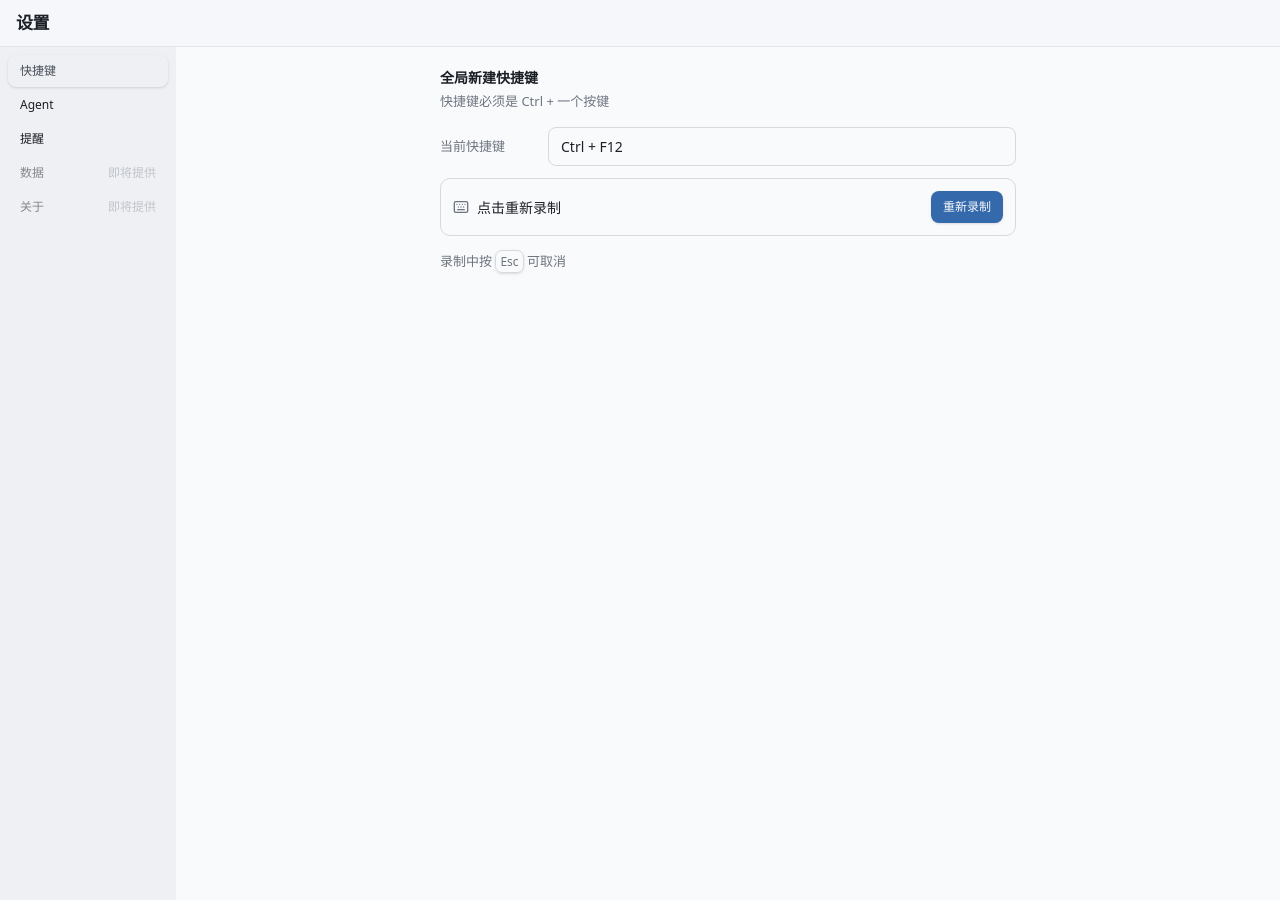
it: 设置页提醒冷却 › 0 分钟非法并保留旧值
The image size is (1280, 900).
Click the button "提醒" at (88, 138), box [8,122,168,154]
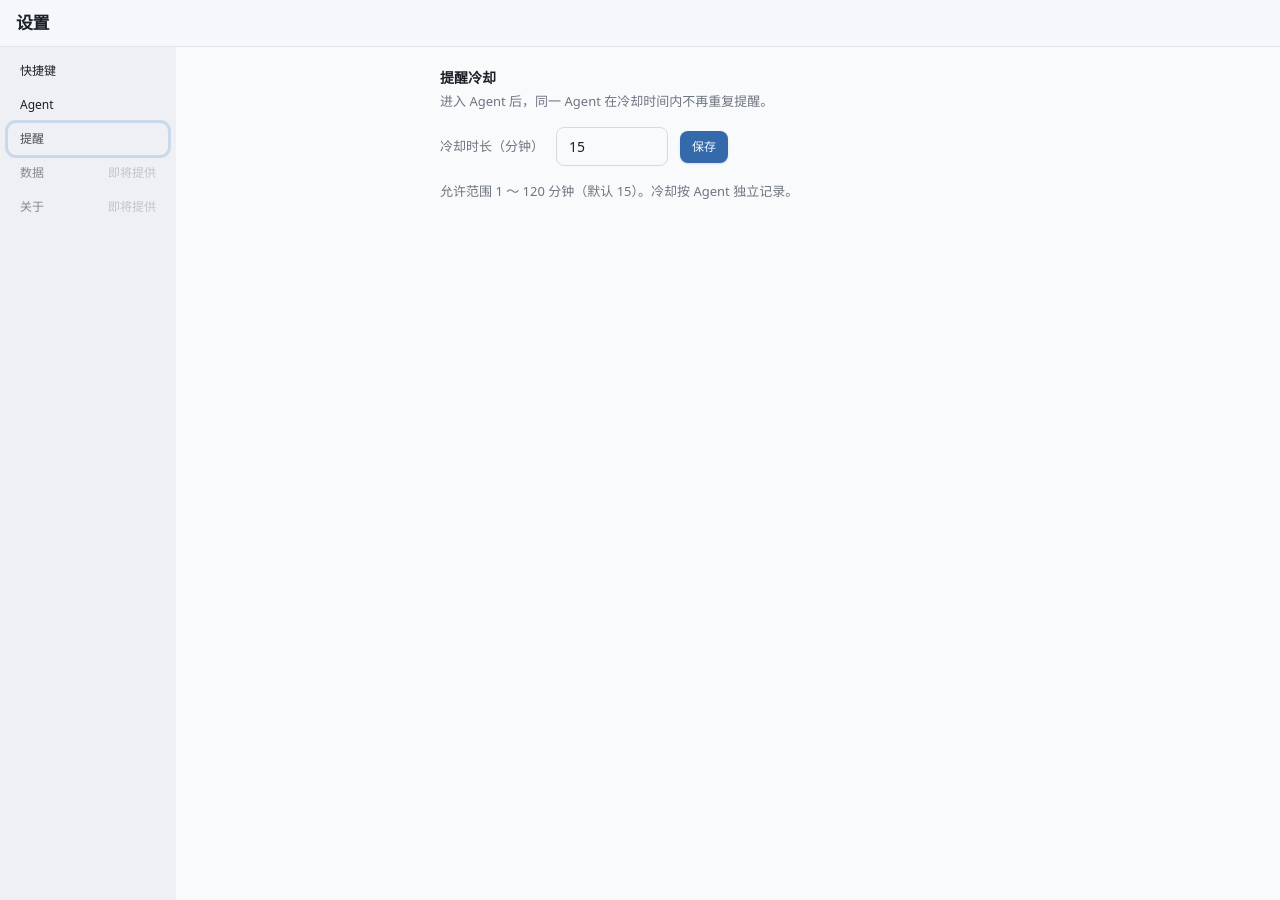
Replace the text in the number field with test id "reminder-cooldown-input" with "0" at (612, 146), box [556,127,668,166]
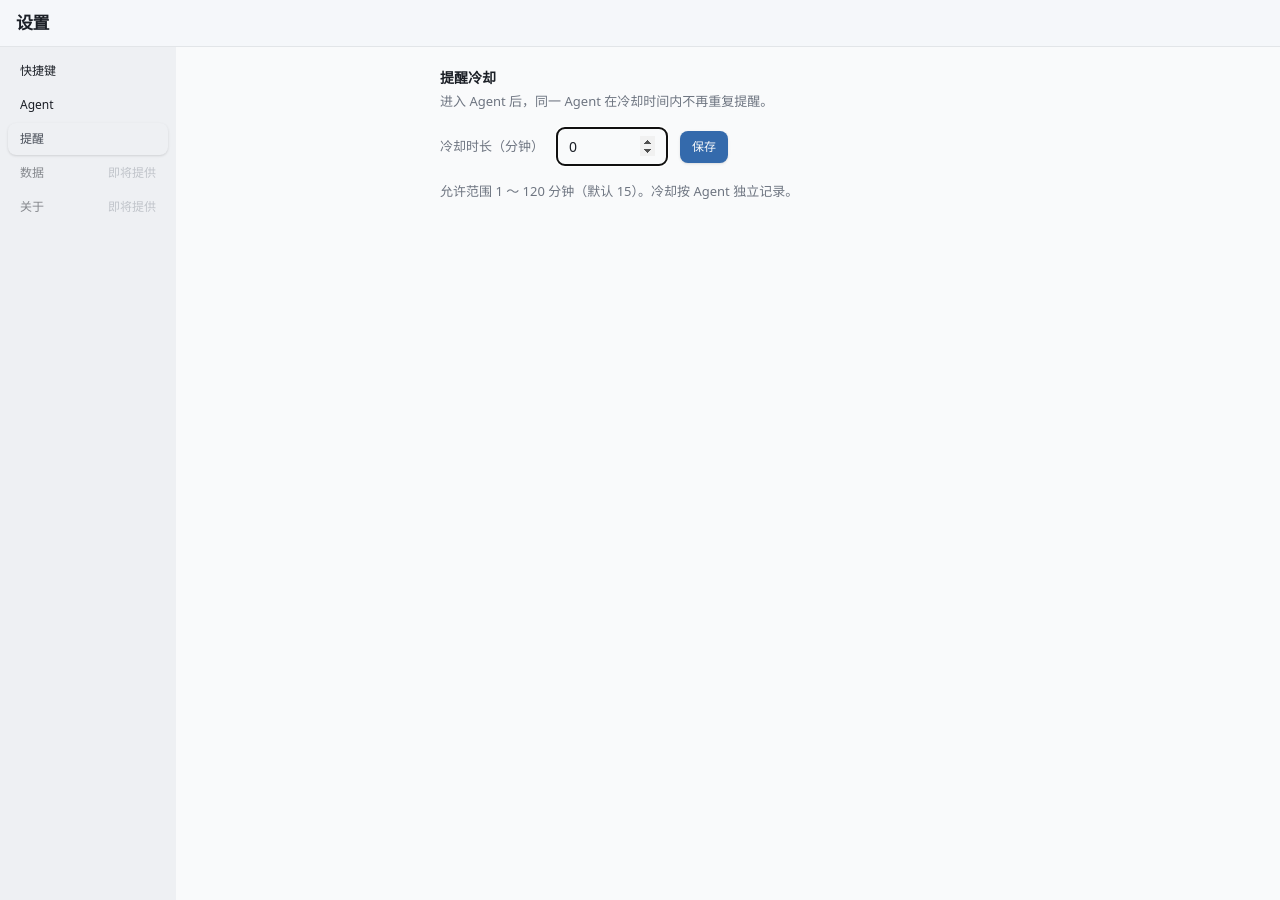
Click the button "保存" at (704, 146), box [680,130,728,162]
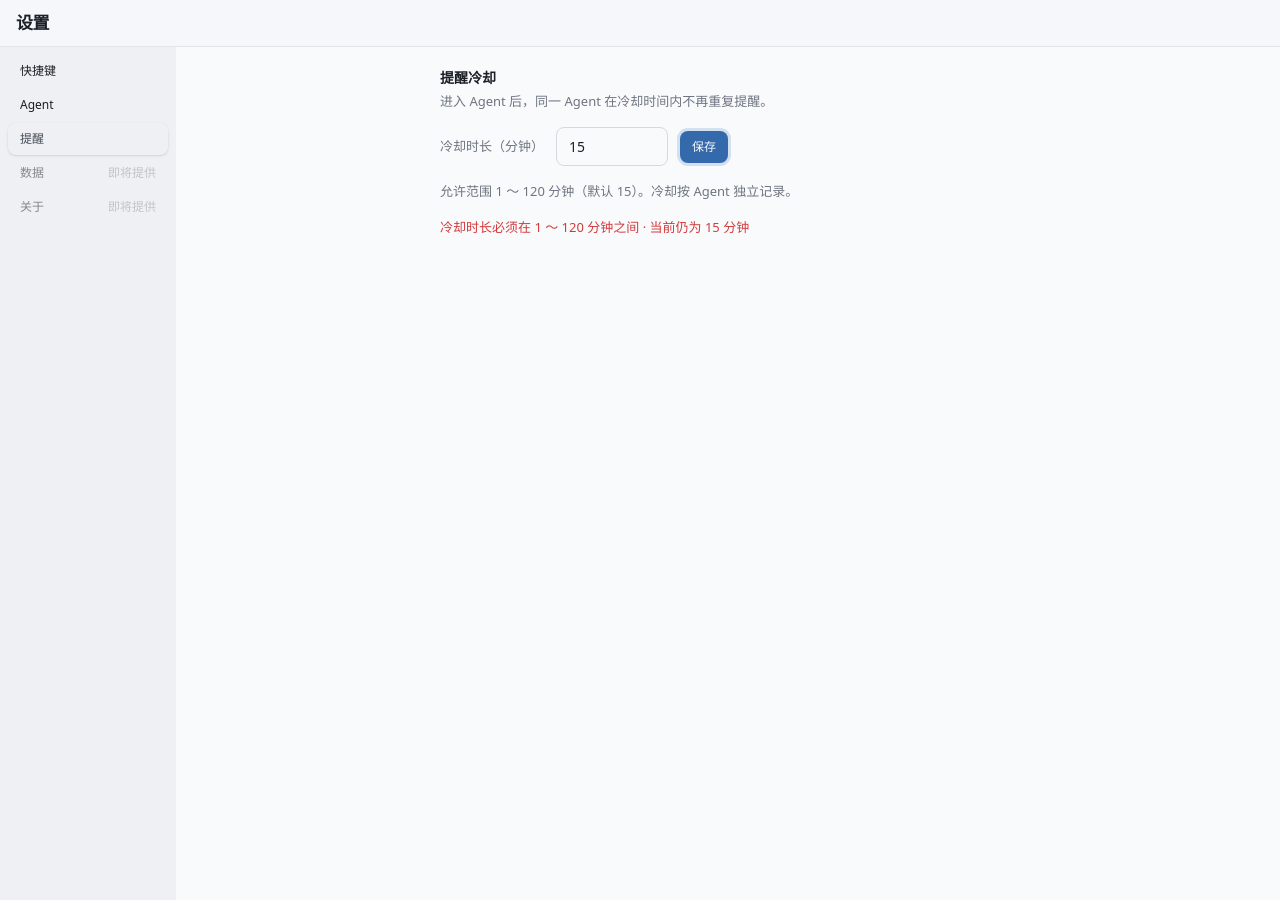
Expected: the message shows "冷却时长必须在 1 ～ 120 分钟之间", [440,218,639,236]
Expected: the number field with test id "reminder-cooldown-input" holds "15", [556,127,668,166]
